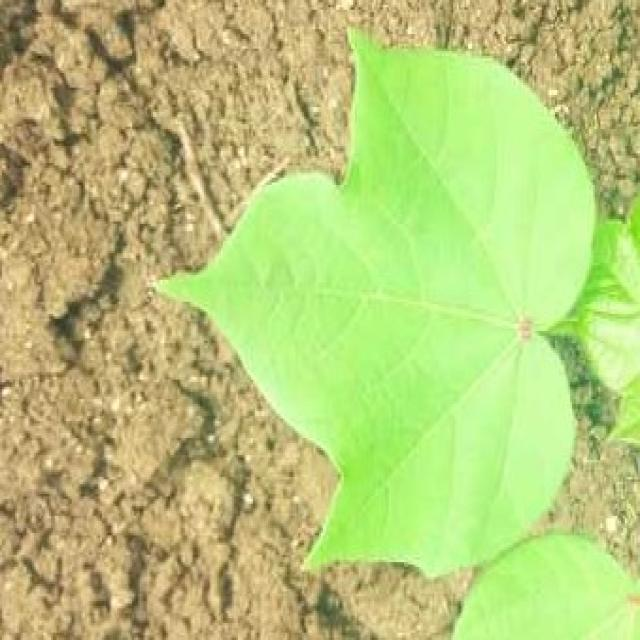Healthy Leaf: (217, 88, 638, 608)
